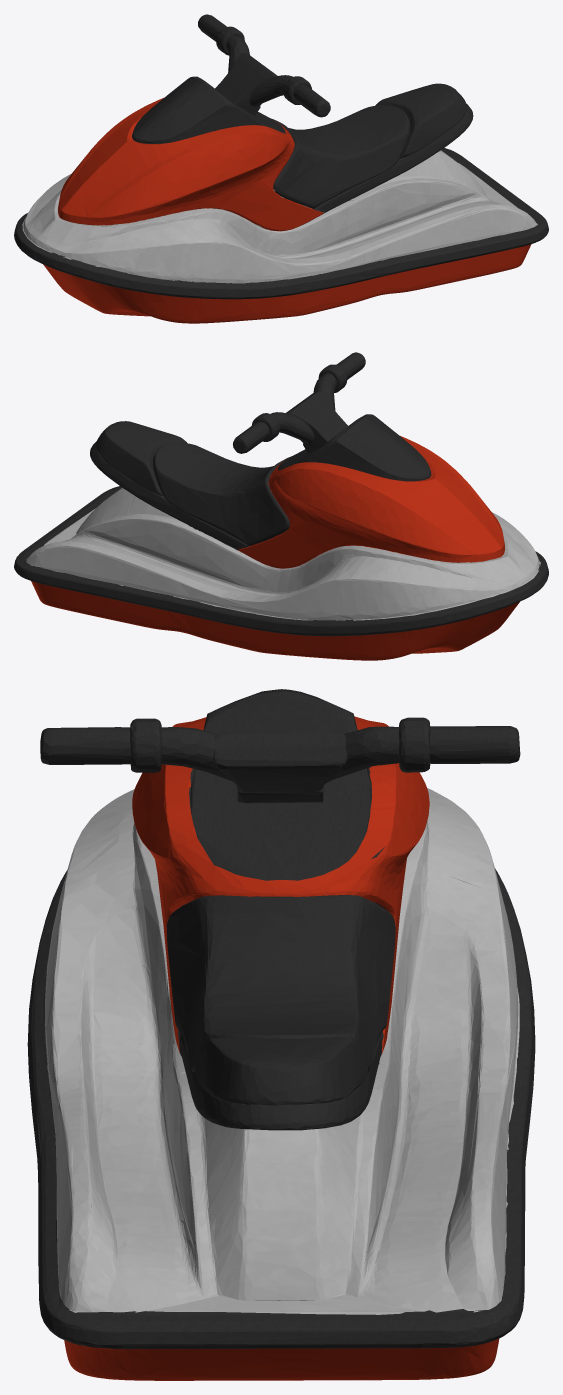
Rendered from jetski_01.glb.
3 renders of one model, top to bottom at view 1: azimuth 30°, elevation 25°; view 2: azimuth 150°, elevation 25°; view 3: azimuth 270°, elevation 25°, orthographic. The views are drawn at different scales.
Parts seen in each view (by area): view 1: material_gameasset.001_material_gameasset_Mat_1_0, material_gameasset.001_material.001_gameasset_Mat_1_0, material_gameasset.001_Seat_gameasset_Mat_1_0, material_gameasset.001_material.004_gameasset_Mat_1_0, material_gameasset.001_material.003_gameasset_Mat_1_0, material_gameasset.001_material.005_gameasset_Mat_1_0, material_gameasset.001_material.002_gameasset_Mat_1_0; view 2: material_gameasset.001_material_gameasset_Mat_1_0, material_gameasset.001_material.001_gameasset_Mat_1_0, material_gameasset.001_Seat_gameasset_Mat_1_0, material_gameasset.001_material.004_gameasset_Mat_1_0, material_gameasset.001_material.005_gameasset_Mat_1_0, material_gameasset.001_material.003_gameasset_Mat_1_0, material_gameasset.001_material.002_gameasset_Mat_1_0; view 3: material_gameasset.001_material_gameasset_Mat_1_0, material_gameasset.001_material.002_gameasset_Mat_1_0, material_gameasset.001_Seat_gameasset_Mat_1_0, material_gameasset.001_material.005_gameasset_Mat_1_0, material_gameasset.001_material.003_gameasset_Mat_1_0, material_gameasset.001_material.001_gameasset_Mat_1_0, material_gameasset.001_material.004_gameasset_Mat_1_0.
Boxes of the visible parts, x1=… form: material_gameasset.001_material_gameasset_Mat_1_0: x1=22, y1=150, x2=537, y2=283; material_gameasset.001_material.001_gameasset_Mat_1_0: x1=58, y1=98, x2=323, y2=283; material_gameasset.001_Seat_gameasset_Mat_1_0: x1=272, y1=83, x2=473, y2=212; material_gameasset.001_material.004_gameasset_Mat_1_0: x1=43, y1=244, x2=531, y2=323; material_gameasset.001_material.003_gameasset_Mat_1_0: x1=14, y1=148, x2=548, y2=299; material_gameasset.001_material.005_gameasset_Mat_1_0: x1=132, y1=14, x2=330, y2=143; material_gameasset.001_material.002_gameasset_Mat_1_0: x1=227, y1=200, x2=503, y2=259; material_gameasset.001_material_gameasset_Mat_1_0: x1=26, y1=487, x2=540, y2=620; material_gameasset.001_material.001_gameasset_Mat_1_0: x1=238, y1=436, x2=505, y2=568; material_gameasset.001_Seat_gameasset_Mat_1_0: x1=90, y1=421, x2=291, y2=550; material_gameasset.001_material.004_gameasset_Mat_1_0: x1=31, y1=581, x2=519, y2=660; material_gameasset.001_material.005_gameasset_Mat_1_0: x1=233, y1=352, x2=431, y2=481; material_gameasset.001_material.003_gameasset_Mat_1_0: x1=14, y1=486, x2=548, y2=636; material_gameasset.001_material.002_gameasset_Mat_1_0: x1=61, y1=538, x2=333, y2=596; material_gameasset.001_material_gameasset_Mat_1_0: x1=45, y1=788, x2=519, y2=1314; material_gameasset.001_material.002_gameasset_Mat_1_0: x1=93, y1=908, x2=470, y2=1312; material_gameasset.001_Seat_gameasset_Mat_1_0: x1=166, y1=895, x2=395, y2=1130; material_gameasset.001_material.005_gameasset_Mat_1_0: x1=40, y1=689, x2=520, y2=880; material_gameasset.001_material.003_gameasset_Mat_1_0: x1=27, y1=868, x2=535, y2=1349; material_gameasset.001_material.001_gameasset_Mat_1_0: x1=132, y1=716, x2=429, y2=1053; material_gameasset.001_material.004_gameasset_Mat_1_0: x1=64, y1=1339, x2=499, y2=1380.
Bounding box in the file's own units: 2.68 × 1.21 × 1.24.
7 materials, 7 textured.
